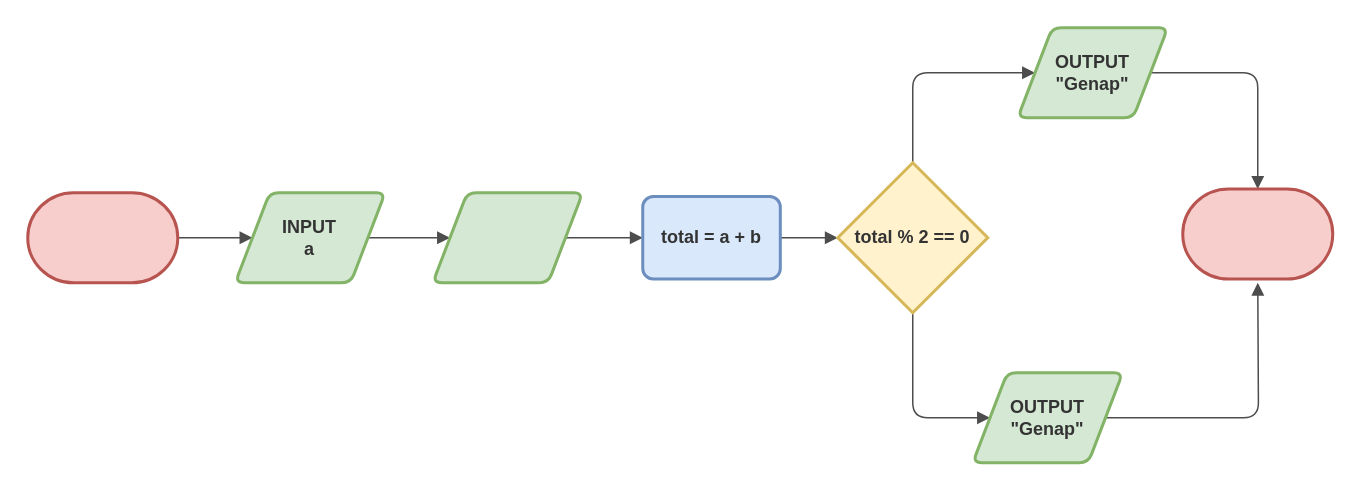
Image size: 1359x489. Some labels were removed from this diagram. Here are the shapes that lost their labels. From the top down, the box of each, then its label:
(26, 190, 178, 284): START
(430, 190, 584, 284): INPUT b
(1180, 187, 1334, 280): END
